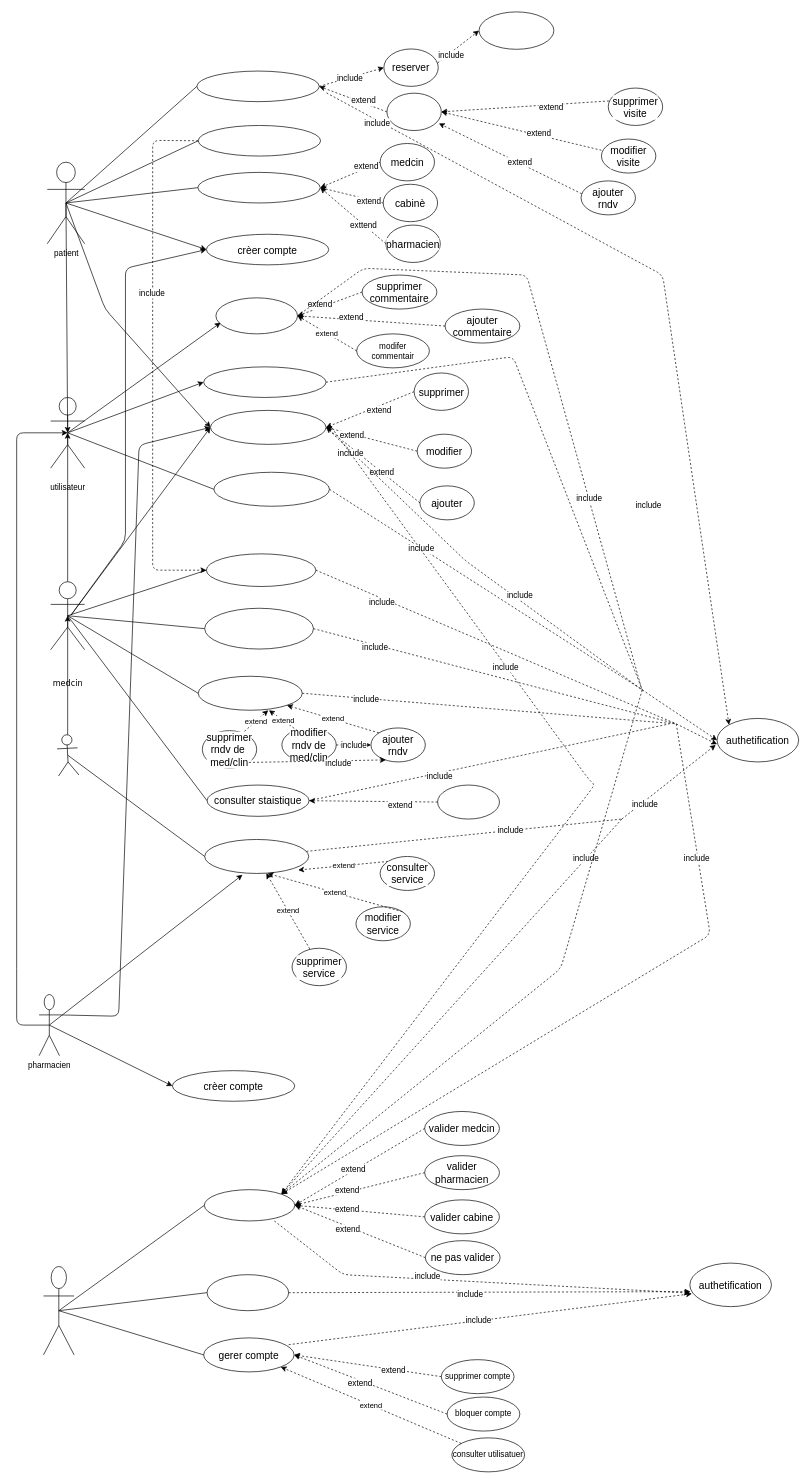
Some shapes in this 811 by 1484 pixel diagram are drawn without their labels. Each missing label, with the box of its shape:
admin: (43, 1266, 74, 1355)
clinique: (56, 734, 79, 776)
consultez services: (203, 366, 326, 397)
contacter admin: (213, 472, 329, 506)
gerere rendez-vous: (198, 676, 302, 710)
gestion de reservation: (196, 70, 319, 102)
grèer ccompte: (210, 410, 326, 444)
gèrer commentaire: (215, 297, 298, 334)
gèrèe les services: (204, 839, 309, 873)
historique: (204, 608, 313, 649)
imprimer statistique: (437, 784, 499, 819)
mis a jour resevation: (386, 92, 441, 131)
noter: (198, 125, 321, 156)
rechercher: (197, 172, 320, 203)
selectionner date: (478, 11, 554, 49)
supprimer commentair: (206, 1274, 289, 1311)
validation: (204, 1189, 295, 1221)
valider visite: (206, 553, 316, 586)
